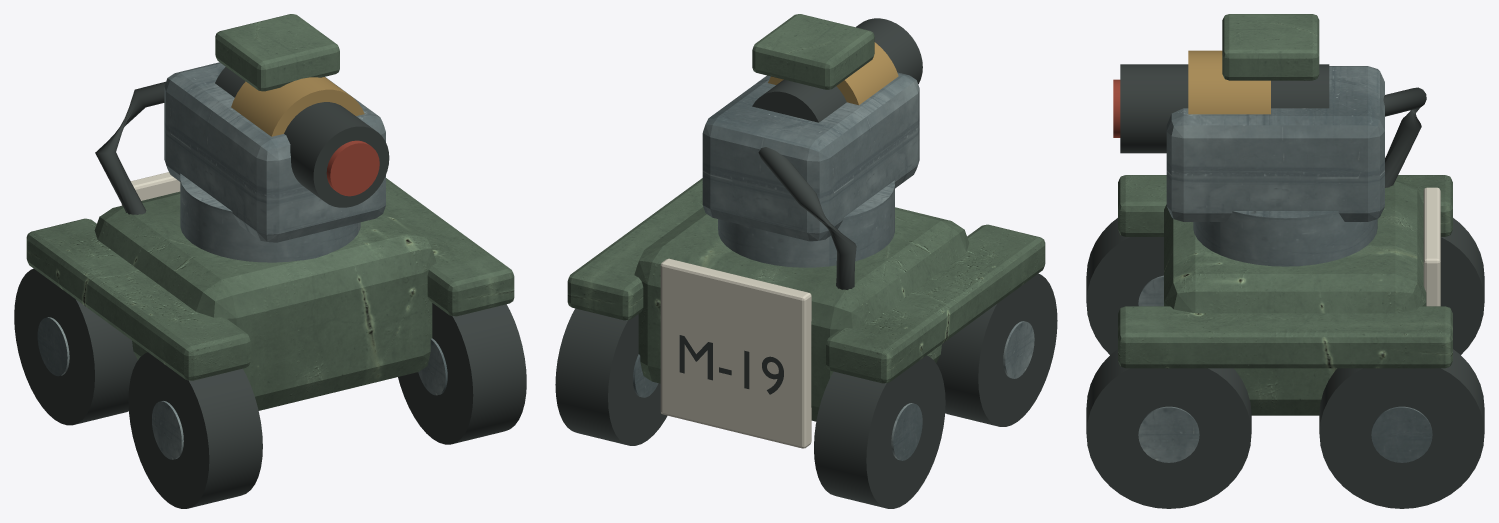
File: mobile_shooter.glb
The picture shows the model from 3 angles, left to right: view 1: azimuth 30°, elevation 25°; view 2: azimuth 150°, elevation 25°; view 3: azimuth 270°, elevation 25°; orthographic projection. The views are drawn at different scales.
Parts seen in each view (by area): view 1: mobile_shooter / containment_sage_enamel, mobile_shooter / power_blackened_steel, mobile_shooter / containment_worn_steel, mobile_shooter / containment_aged_brass, mobile_shooter / power_valve_red, mobile_shooter / power_instrument_ivory; view 2: mobile_shooter / containment_sage_enamel, mobile_shooter / power_blackened_steel, mobile_shooter / containment_worn_steel, mobile_shooter / power_instrument_ivory, mobile_shooter / containment_aged_brass; view 3: mobile_shooter / power_blackened_steel, mobile_shooter / containment_sage_enamel, mobile_shooter / containment_worn_steel, mobile_shooter / containment_aged_brass, mobile_shooter / power_instrument_ivory, mobile_shooter / power_valve_red.
Boxes of the visible parts, x1=… form: mobile_shooter / containment_sage_enamel: x1=26, y1=14, x2=514, y2=410; mobile_shooter / power_blackened_steel: x1=14, y1=67, x2=526, y2=508; mobile_shooter / containment_worn_steel: x1=37, y1=62, x2=447, y2=459; mobile_shooter / containment_aged_brass: x1=231, y1=77, x2=364, y2=136; mobile_shooter / power_valve_red: x1=326, y1=140, x2=379, y2=196; mobile_shooter / power_instrument_ivory: x1=121, y1=172, x2=180, y2=205; mobile_shooter / containment_sage_enamel: x1=567, y1=14, x2=1045, y2=421; mobile_shooter / power_blackened_steel: x1=555, y1=18, x2=1057, y2=508; mobile_shooter / containment_worn_steel: x1=633, y1=72, x2=1034, y2=460; mobile_shooter / power_instrument_ivory: x1=660, y1=258, x2=811, y2=448; mobile_shooter / containment_aged_brass: x1=768, y1=42, x2=898, y2=105; mobile_shooter / power_blackened_steel: x1=1086, y1=64, x2=1484, y2=508; mobile_shooter / containment_sage_enamel: x1=1118, y1=14, x2=1452, y2=415; mobile_shooter / containment_worn_steel: x1=1138, y1=66, x2=1432, y2=462; mobile_shooter / containment_aged_brass: x1=1188, y1=50, x2=1270, y2=114; mobile_shooter / power_instrument_ivory: x1=1423, y1=187, x2=1440, y2=306; mobile_shooter / power_valve_red: x1=1113, y1=79, x2=1120, y2=137.
Size of the model in its own units: 0.8 by 0.905 by 0.82.
Materials: 6 (2 with a texture image).
